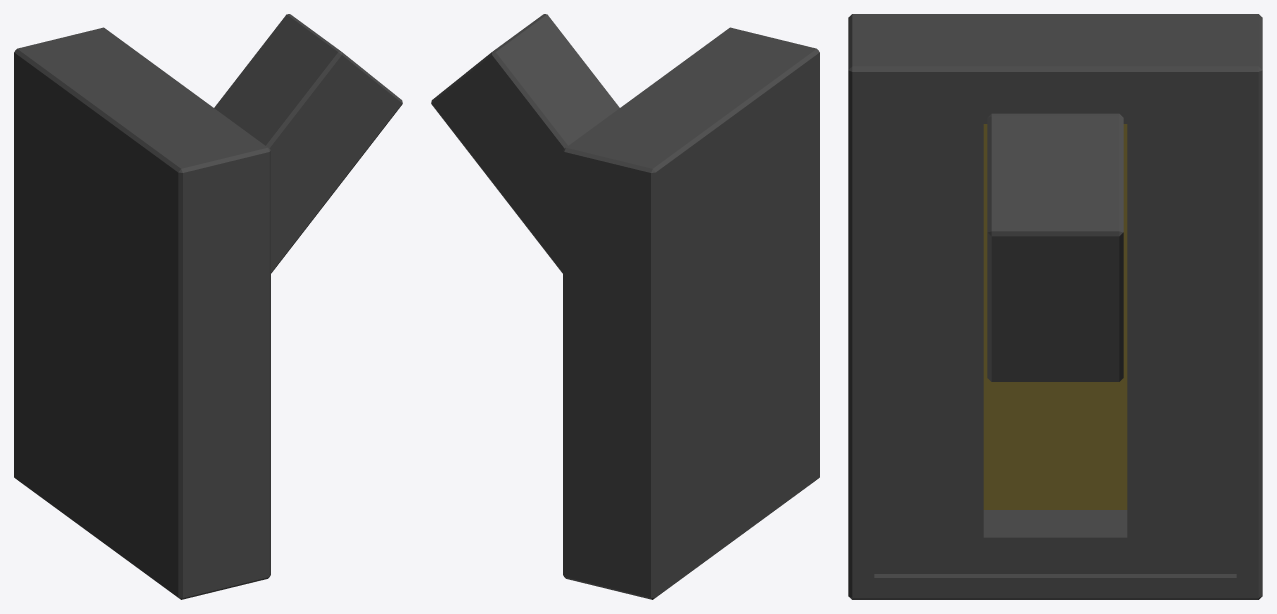
The model's file is Lever.glb.
The picture shows the model from 3 angles, left to right: view 1: azimuth 30°, elevation 25°; view 2: azimuth 150°, elevation 25°; view 3: azimuth 270°, elevation 25°; orthographic projection. The views are drawn at different scales.
Parts seen in each view (by area): view 1: Lever; view 2: Lever; view 3: Lever.
Boxes of the visible parts, x1,y1,x2,y2 form: Lever: (14, 14, 402, 599); Lever: (431, 14, 819, 599); Lever: (848, 14, 1262, 599).
Bounding box in the file's own units: 6.06 × 9.38 × 6.26.
